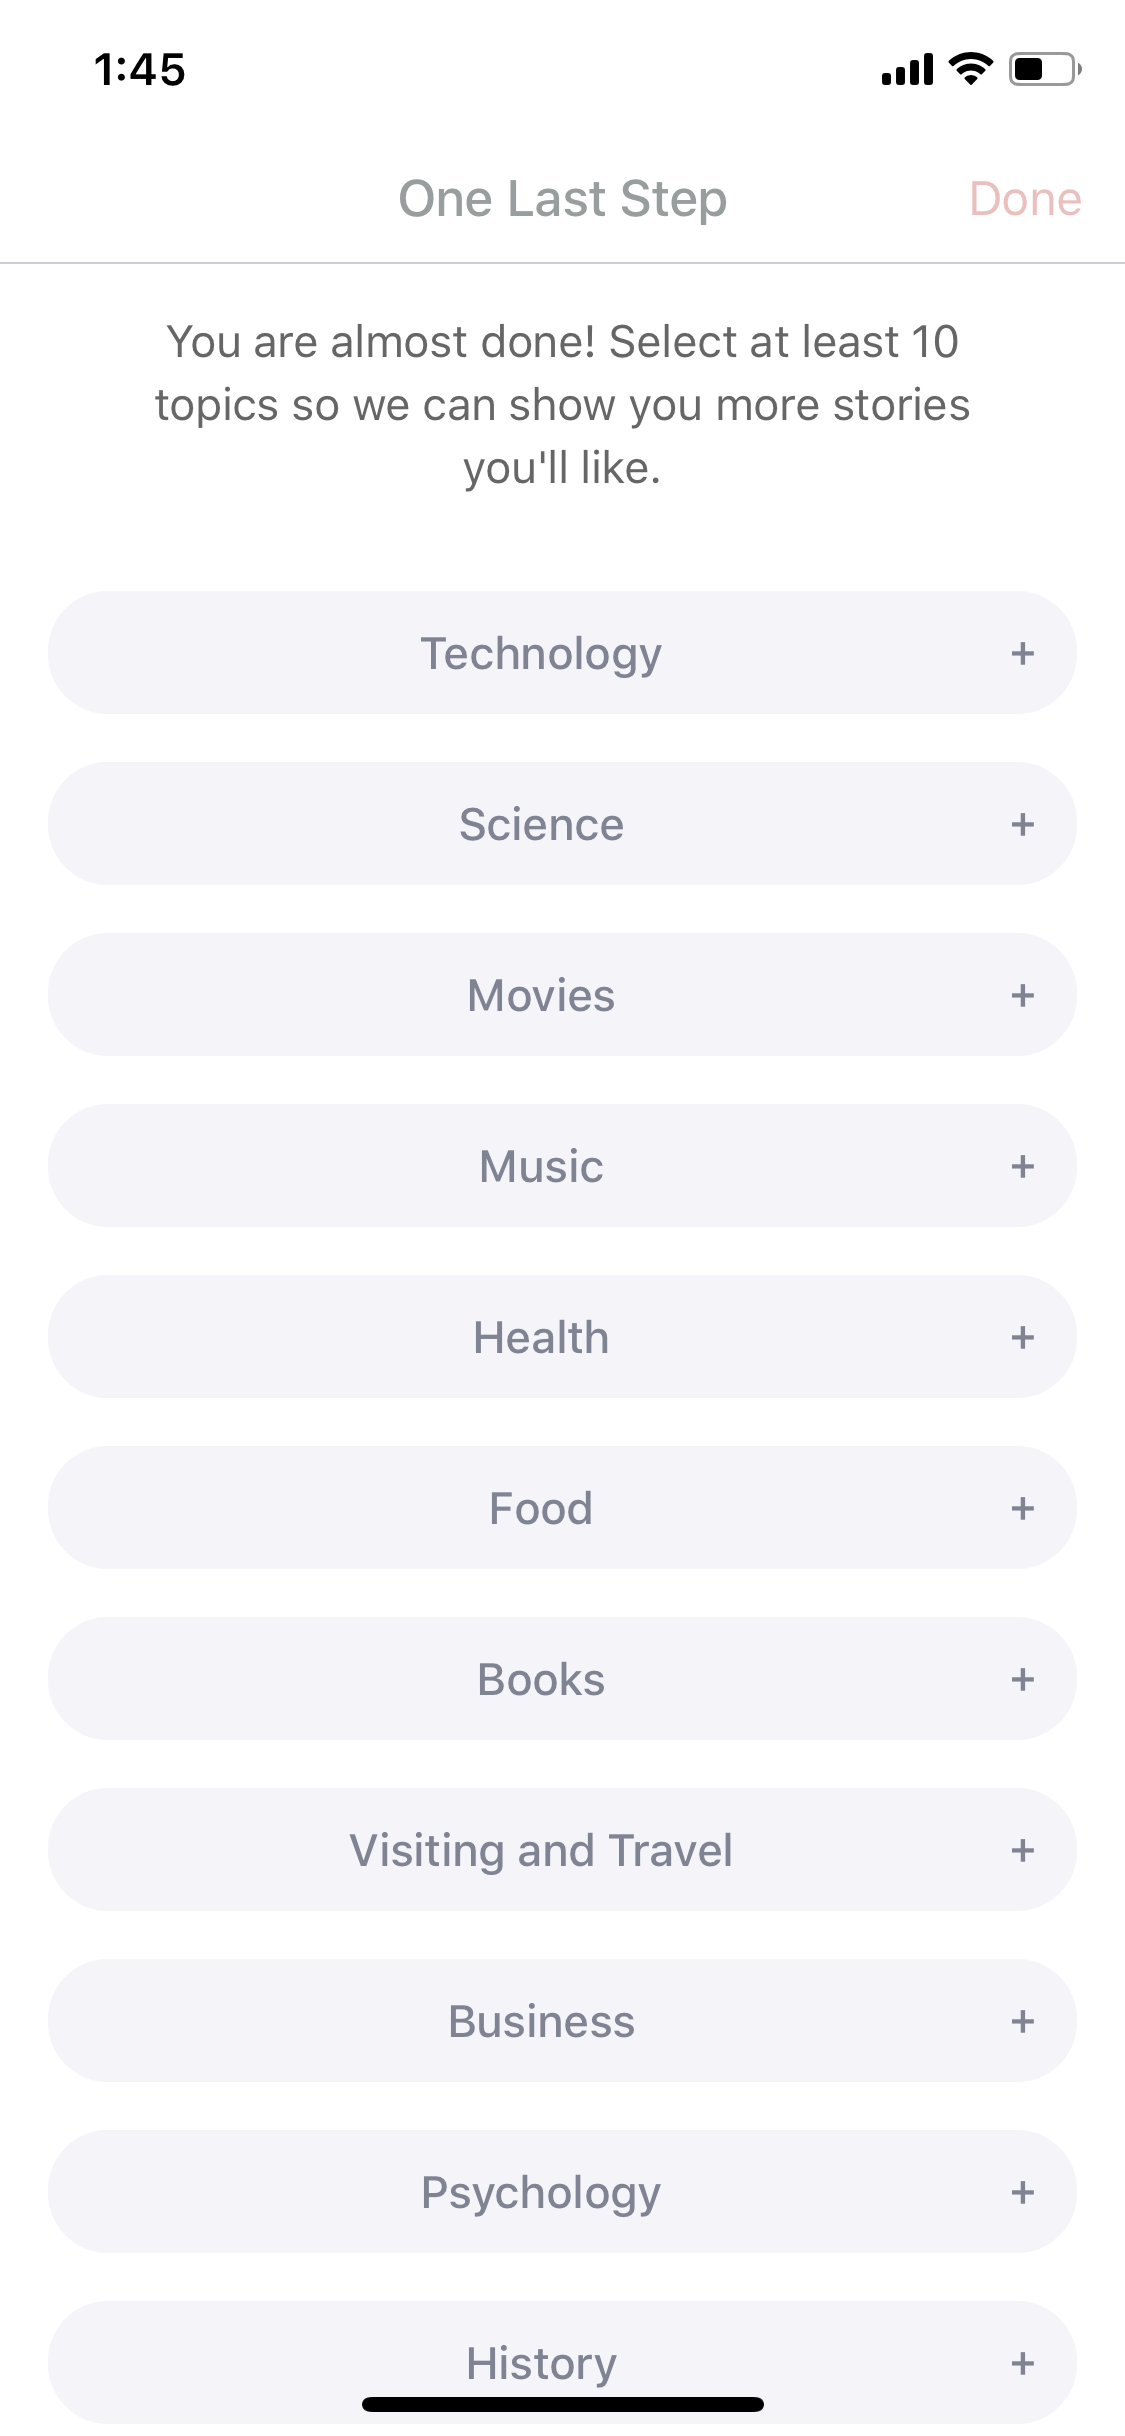Buttons: (934, 126, 1109, 245)
